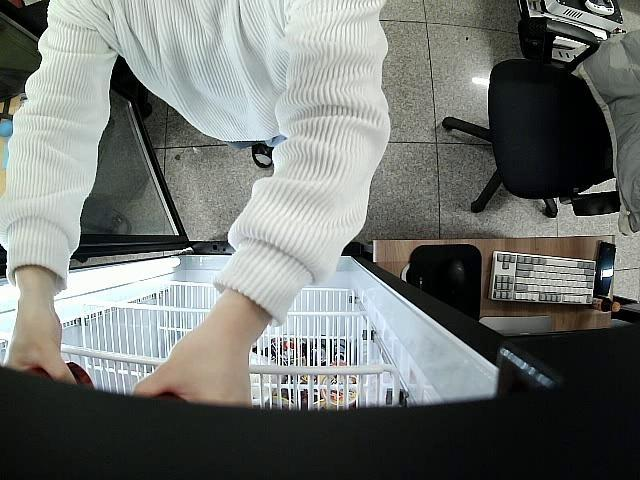11_cocaColaZero: (28, 360, 93, 388)
